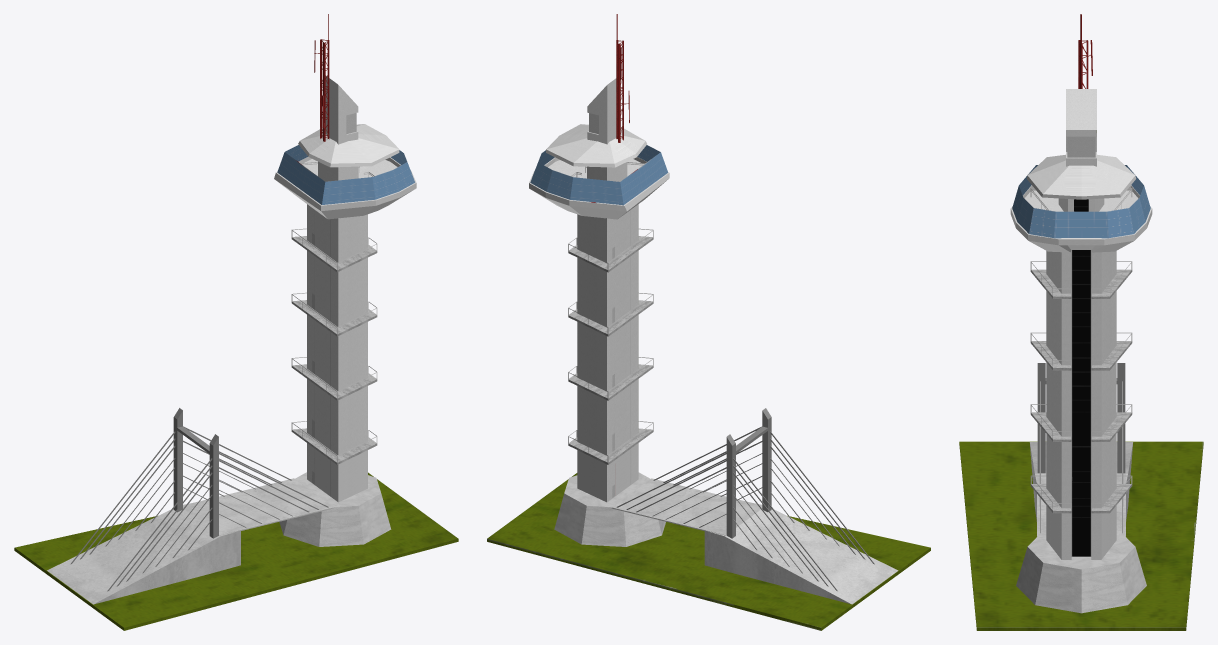
The model's file is miranteLOD1.fbx.
3 renders of one model, left to right at view 1: azimuth 30°, elevation 25°; view 2: azimuth 150°, elevation 25°; view 3: azimuth 270°, elevation 25°, orthographic. The views are drawn at different scales.
Parts seen in each view (by area): view 1: miranteLOD1; view 2: miranteLOD1; view 3: miranteLOD1.
Boxes of the visible parts, bbox=[...] form: miranteLOD1: bbox=[14, 14, 458, 630]; miranteLOD1: bbox=[487, 14, 930, 630]; miranteLOD1: bbox=[959, 14, 1203, 630].
Bounding box in the file's own units: 6666 × 9557 × 3698.
